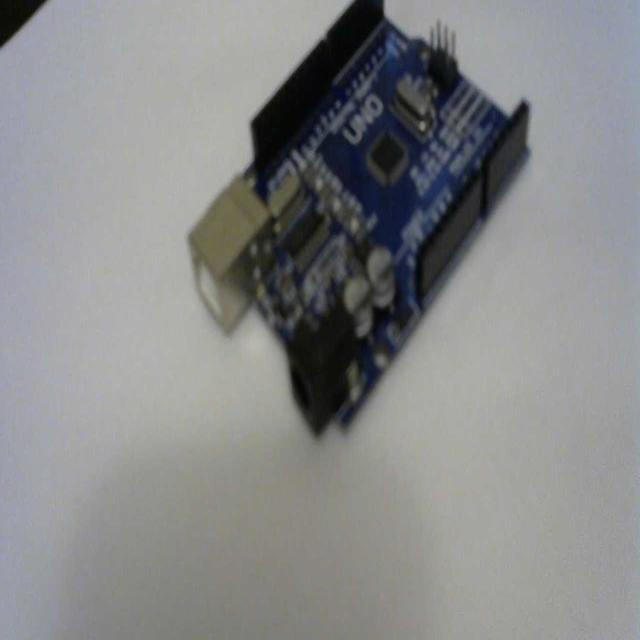arduino: (189, 0, 537, 444)
